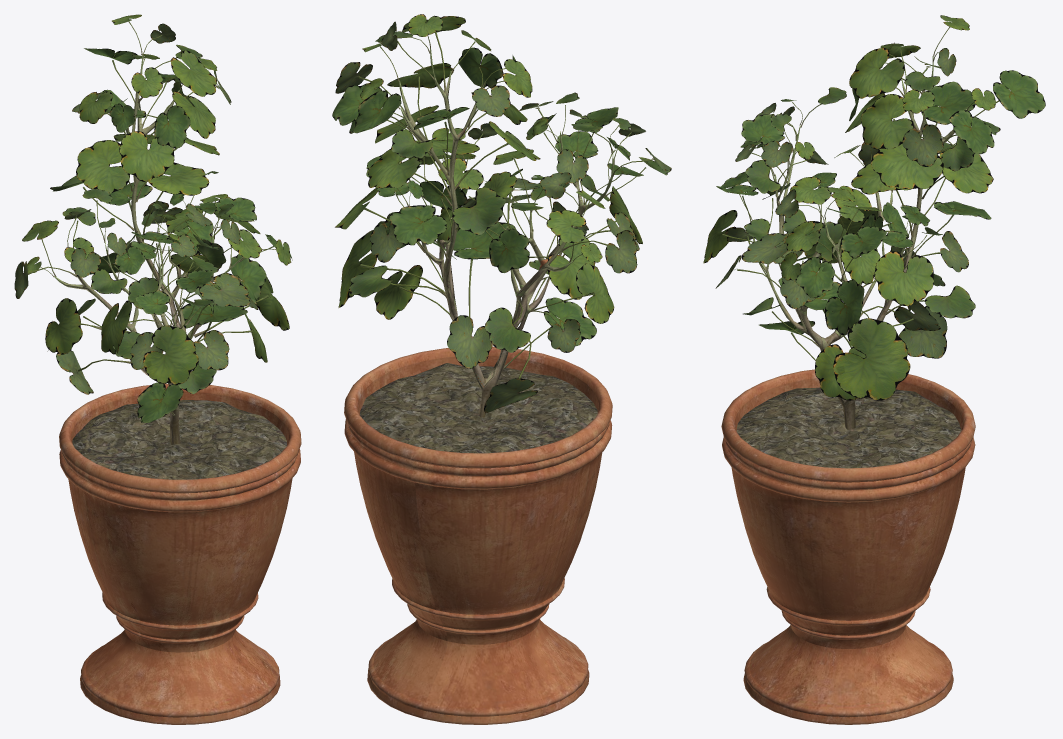
The model's file is PottedPlantTall.obj.
3 views of the same model, side by side, from view 1: azimuth 30°, elevation 25°; view 2: azimuth 150°, elevation 25°; view 3: azimuth 270°, elevation 25° (orthographic). The views are drawn at different scales.
Visible parts, largest first — view 1: Pot, Leaves, Gravel; view 2: Pot, Leaves, Gravel; view 3: Pot, Leaves, Gravel.
Boxes of the visible parts, left/top/right/bottom form: Pot: left=54, top=54, right=301, bottom=724; Leaves: left=14, top=14, right=292, bottom=423; Gravel: left=72, top=400, right=286, bottom=479; Pot: left=344, top=48, right=613, bottom=724; Leaves: left=332, top=14, right=671, bottom=412; Gravel: left=359, top=363, right=597, bottom=453; Pot: left=721, top=56, right=975, bottom=724; Leaves: left=703, top=15, right=1045, bottom=400; Gravel: left=736, top=387, right=961, bottom=468.
Bounding box in the file's own units: 0.5796 × 1.34 × 0.634.
3 materials, 3 textured.
